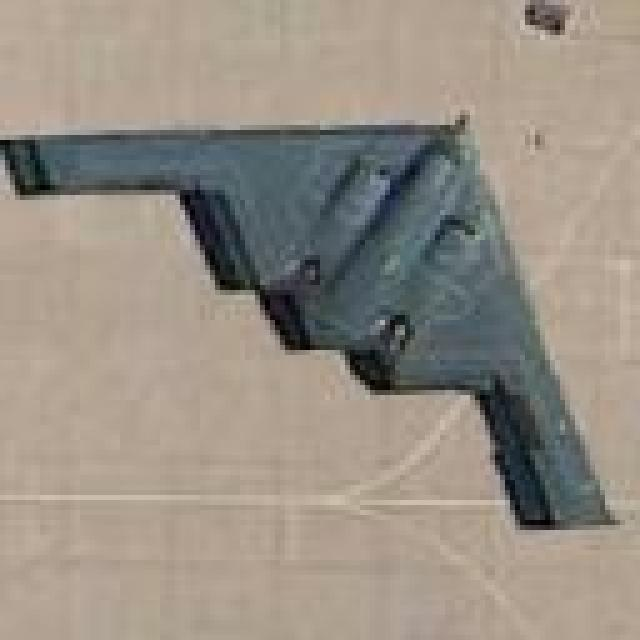B-2_TopDown: (0, 105, 620, 530)
